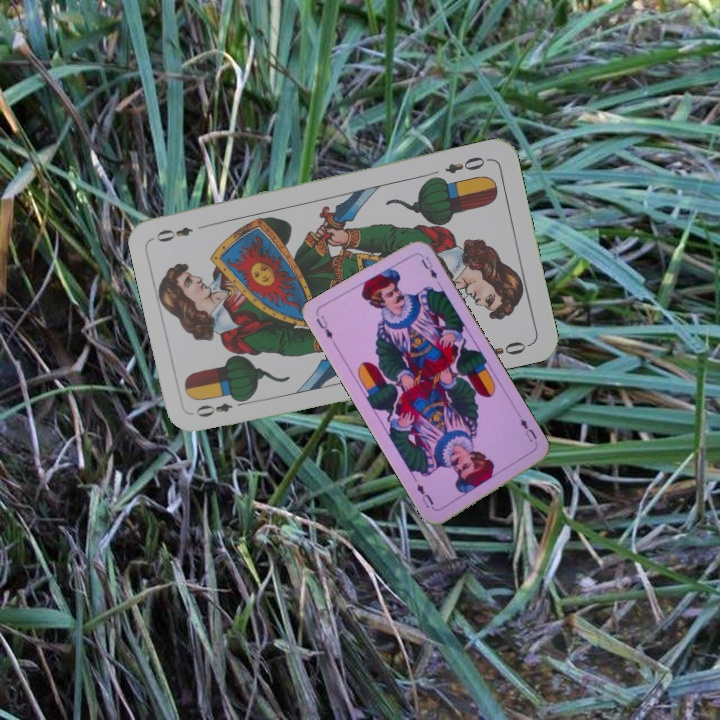EO: (191, 394, 249, 420), (441, 152, 492, 176)
EU: (516, 414, 540, 449), (312, 312, 335, 342)
